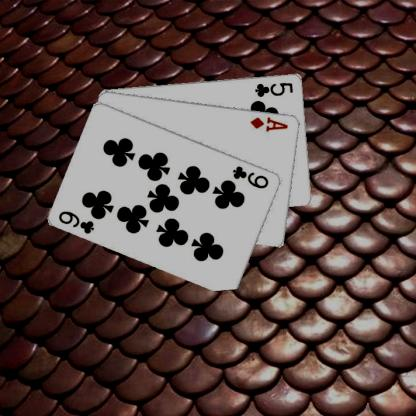5C: (253, 80, 294, 98)
9C: (230, 163, 270, 190), (56, 208, 96, 235)
AD: (249, 115, 290, 132)
